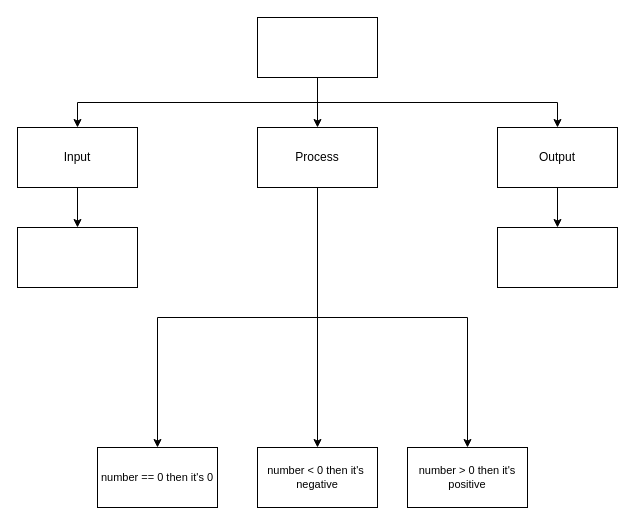
Image size: 635x525. Some labels were removed from this diagram. Each missing label, with the box of its shape:
Get number: (16, 226, 138, 288)
Positive and negative: (256, 16, 378, 78)
Show answer: (496, 226, 618, 288)
